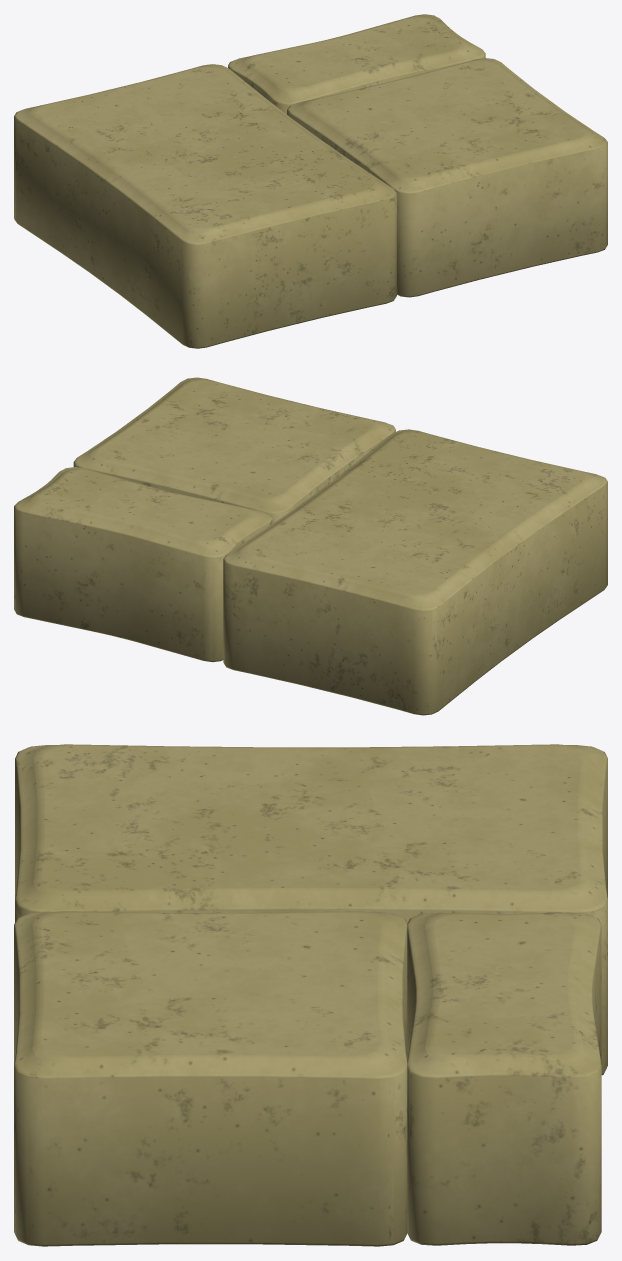
The model's file is owc-yellow.gltf.
The picture shows the model from 3 angles, top to bottom: view 1: azimuth 30°, elevation 25°; view 2: azimuth 150°, elevation 25°; view 3: azimuth 270°, elevation 25°; orthographic projection. The views are drawn at different scales.
Parts seen in each view (by area): view 1: Old World Cobble Regular.001, Old World Cobble Square.001, Old World Cobble Half.001; view 2: Old World Cobble Regular.001, Old World Cobble Half.001, Old World Cobble Square.001; view 3: Old World Cobble Square.001, Old World Cobble Regular.001, Old World Cobble Half.001.
Part boxes in pixels (x1,y1,x2,y2): Old World Cobble Regular.001: (14,64,396,348); Old World Cobble Square.001: (287,58,607,297); Old World Cobble Half.001: (228,14,485,114); Old World Cobble Regular.001: (223,429,607,715); Old World Cobble Half.001: (14,467,273,662); Old World Cobble Square.001: (73,377,395,523); Old World Cobble Square.001: (14,911,407,1246); Old World Cobble Regular.001: (15,744,607,1075); Old World Cobble Half.001: (407,912,601,1245).
Bounding box in the file's own units: 0.239 × 0.0603 × 0.1801.
Materials: 1 (1 with a texture image).
